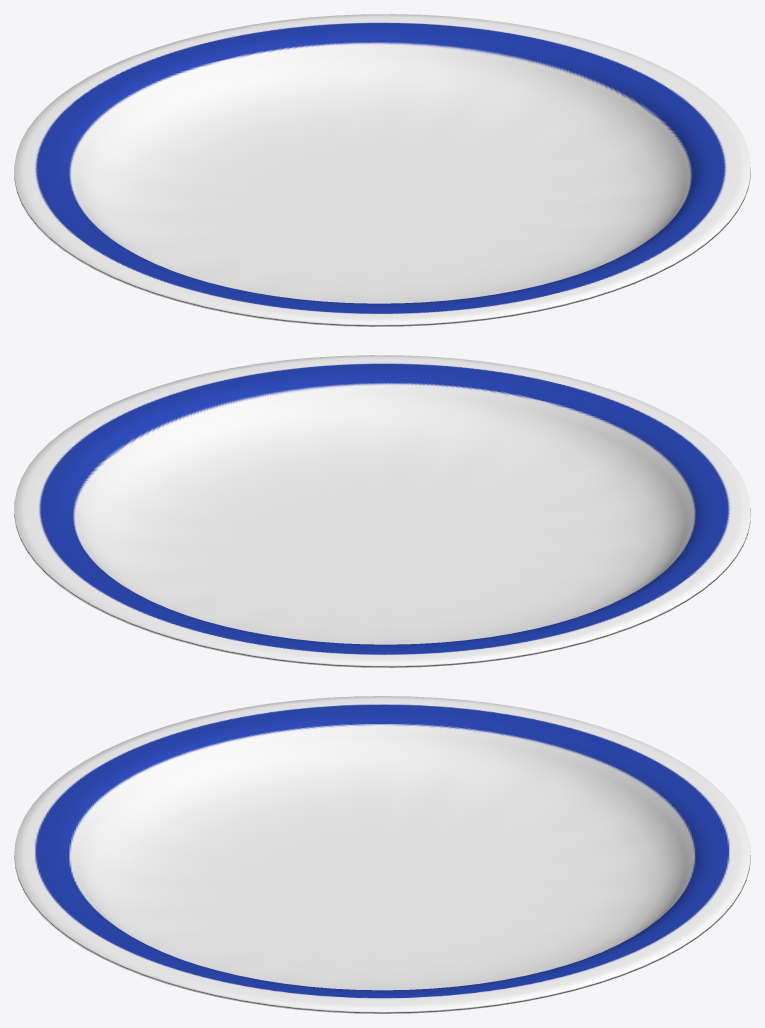
The model's file is Dish 1.fbx.
The picture shows the model from 3 angles, top to bottom: view 1: azimuth 30°, elevation 25°; view 2: azimuth 150°, elevation 25°; view 3: azimuth 270°, elevation 25°; orthographic projection.
Parts seen in each view (by area): view 1: pCylinder1; view 2: pCylinder1; view 3: pCylinder1.
Boxes of the visible parts, x1,y1,x2,y2 form: pCylinder1: (14,14,750,326); pCylinder1: (14,355,750,667); pCylinder1: (14,696,750,1013).
Bounding box in the file's own units: 6.25 × 0.9252 × 6.18.
